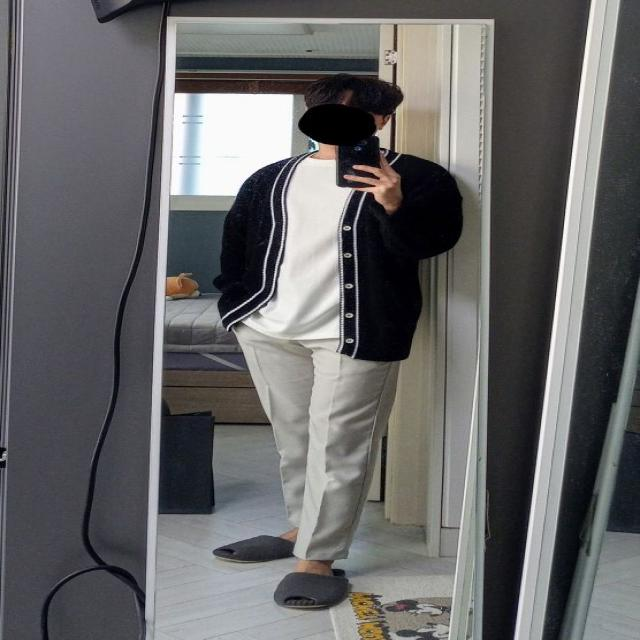cardigan: (217, 150, 461, 372)
slacks: (235, 316, 398, 565)
